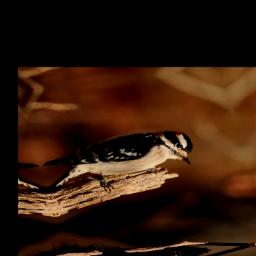Woodpecker: (37, 125, 208, 200)
